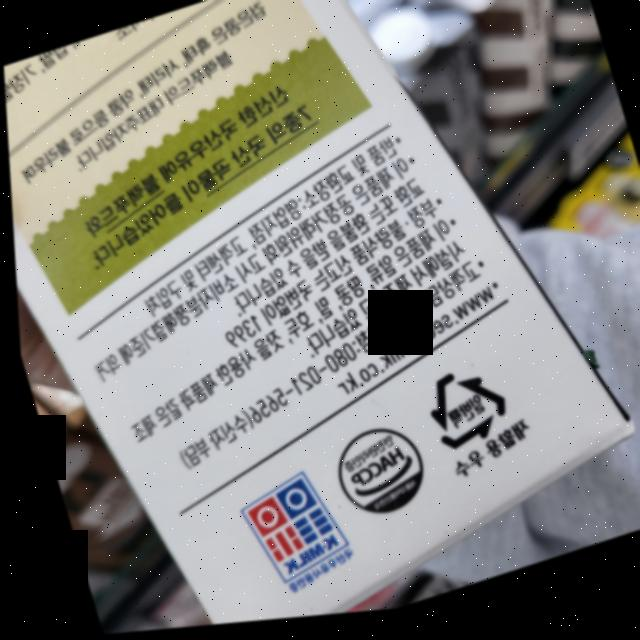NormalPack: (408, 360, 515, 471)
